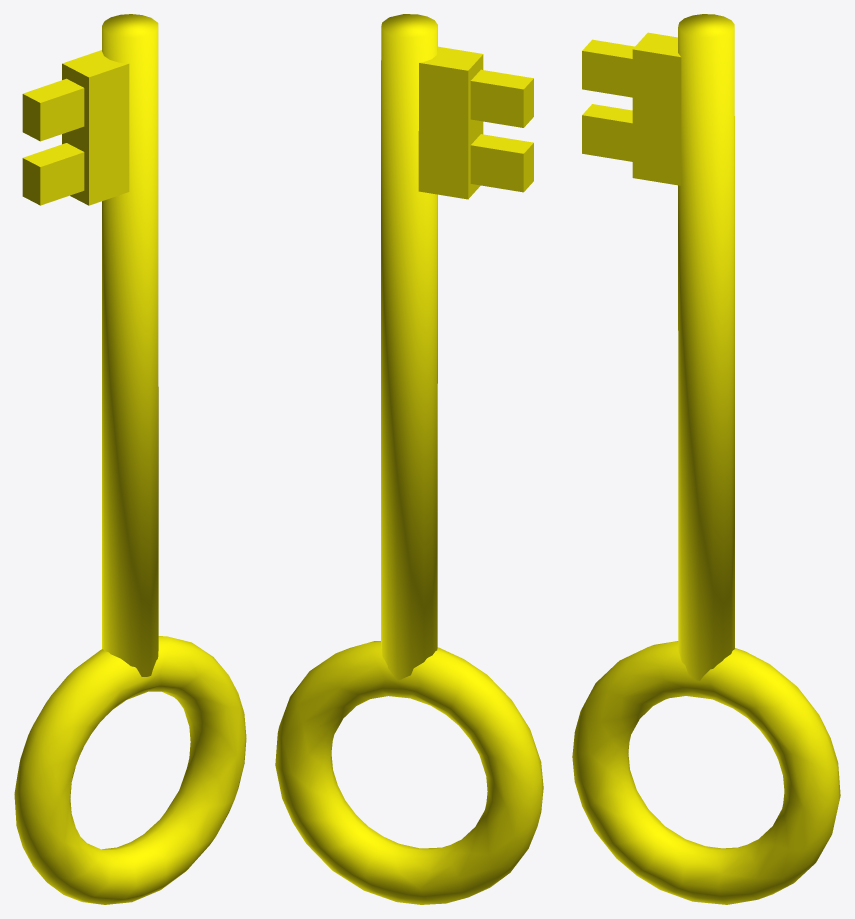
File: chiave.fbx
The picture shows the model from 3 angles, left to right: view 1: azimuth 30°, elevation 25°; view 2: azimuth 150°, elevation 25°; view 3: azimuth 330°, elevation 25°; orthographic projection.
Visible parts, largest first — view 1: CHIAVE; view 2: CHIAVE; view 3: CHIAVE.
Boxes of the visible parts, box(x1,y1,x2,y2) form: CHIAVE: box(14, 14, 246, 904); CHIAVE: box(275, 14, 543, 904); CHIAVE: box(572, 14, 840, 904).
Size of the model in its own units: 8.56 by 29.47 by 2.8.
